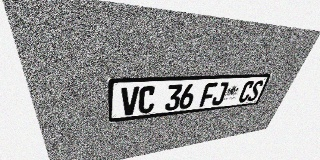3: (164, 84, 183, 111)
6: (178, 84, 197, 109)
C: (138, 86, 156, 114), (237, 81, 255, 103)
F: (199, 83, 218, 107)
J: (211, 82, 229, 106)
S: (246, 80, 265, 102)
V: (121, 86, 139, 116)
